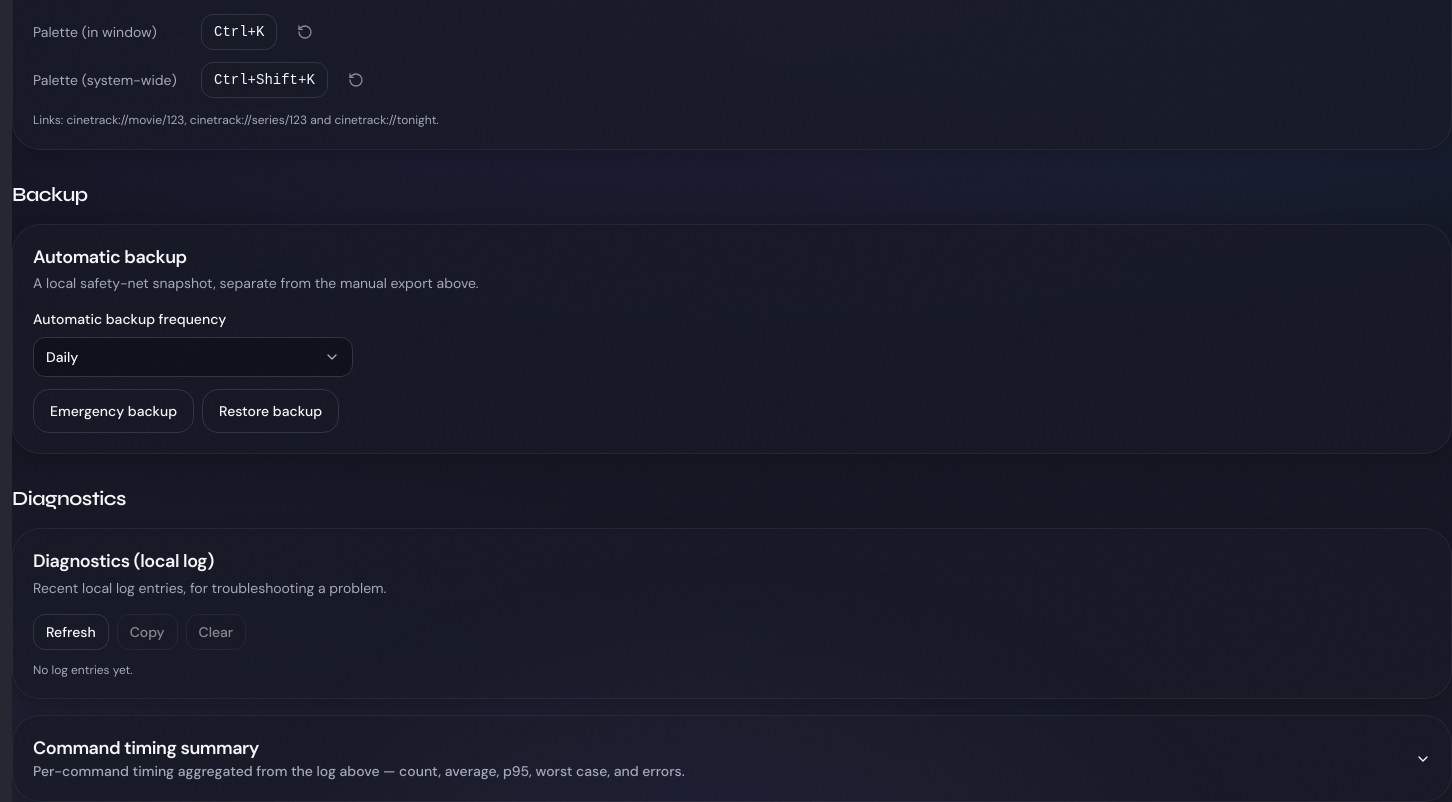
DesktopSettings › command timing summary › renders the empty placeholder when no commands have been recorded
(page scrolled)
Click the button "Command timing summary": (146, 748) x1=33 y1=736 x2=1431 y2=781
(page scrolled)
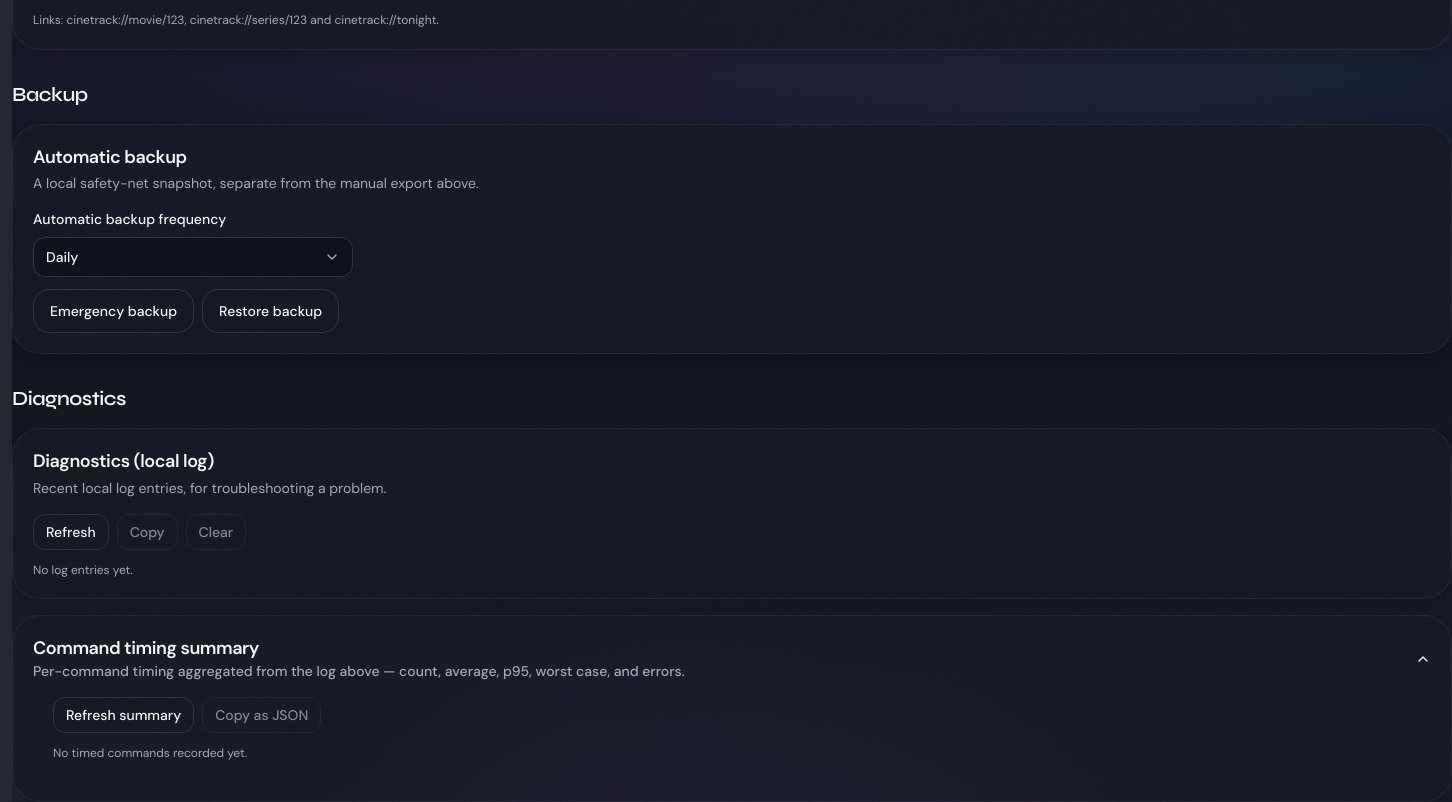
Check: the text "No timed commands recorded yet." is shown, box x1=53 y1=745 x2=247 y2=761
